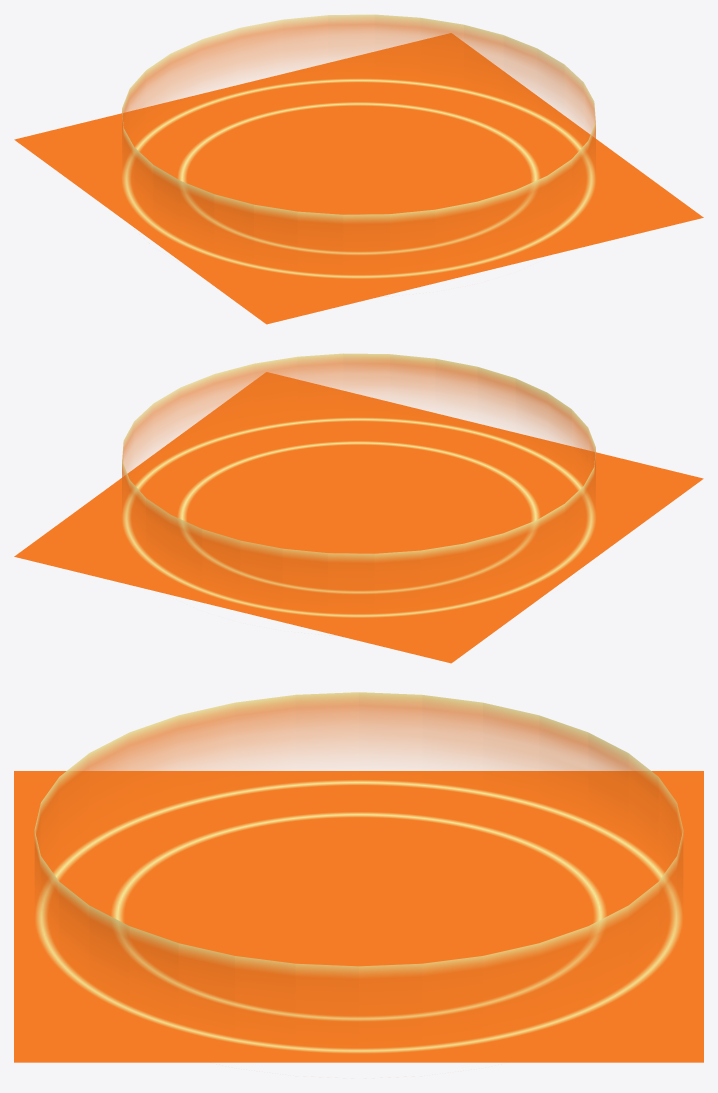
The model's file is fx_pulse.glb.
3 views of the same model, one above another, from view 1: azimuth 30°, elevation 25°; view 2: azimuth 150°, elevation 25°; view 3: azimuth 270°, elevation 25° (orthographic). The views are drawn at different scales.
Visible parts, largest first — view 1: fx_shock, fx_wall; view 2: fx_shock, fx_wall; view 3: fx_shock, fx_wall.
Part boxes in pixels (left/top/right/bottom): fx_shock: left=14, top=33, right=703, bottom=324; fx_wall: left=122, top=14, right=595, bottom=263; fx_shock: left=14, top=372, right=703, bottom=663; fx_wall: left=122, top=353, right=595, bottom=604; fx_shock: left=14, top=771, right=703, bottom=1062; fx_wall: left=34, top=692, right=683, bottom=1034.
Bounding box in the file's own units: 1 × 0.18 × 1.
2 materials, 2 textured.
